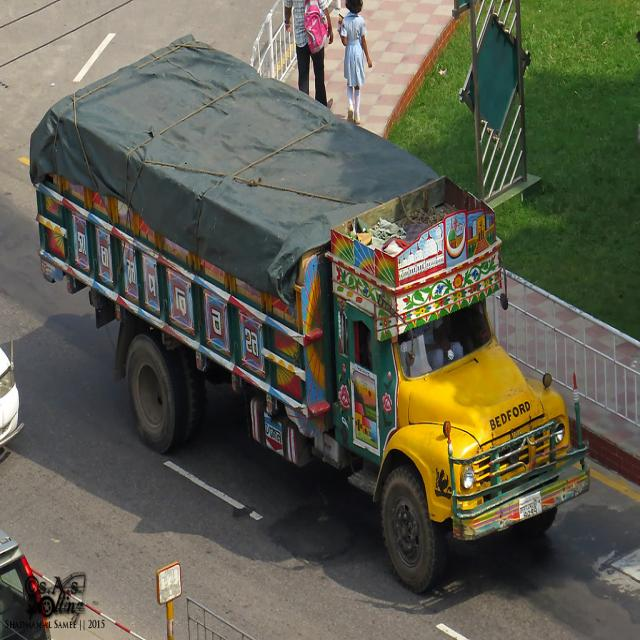truck: (16, 26, 600, 588)
